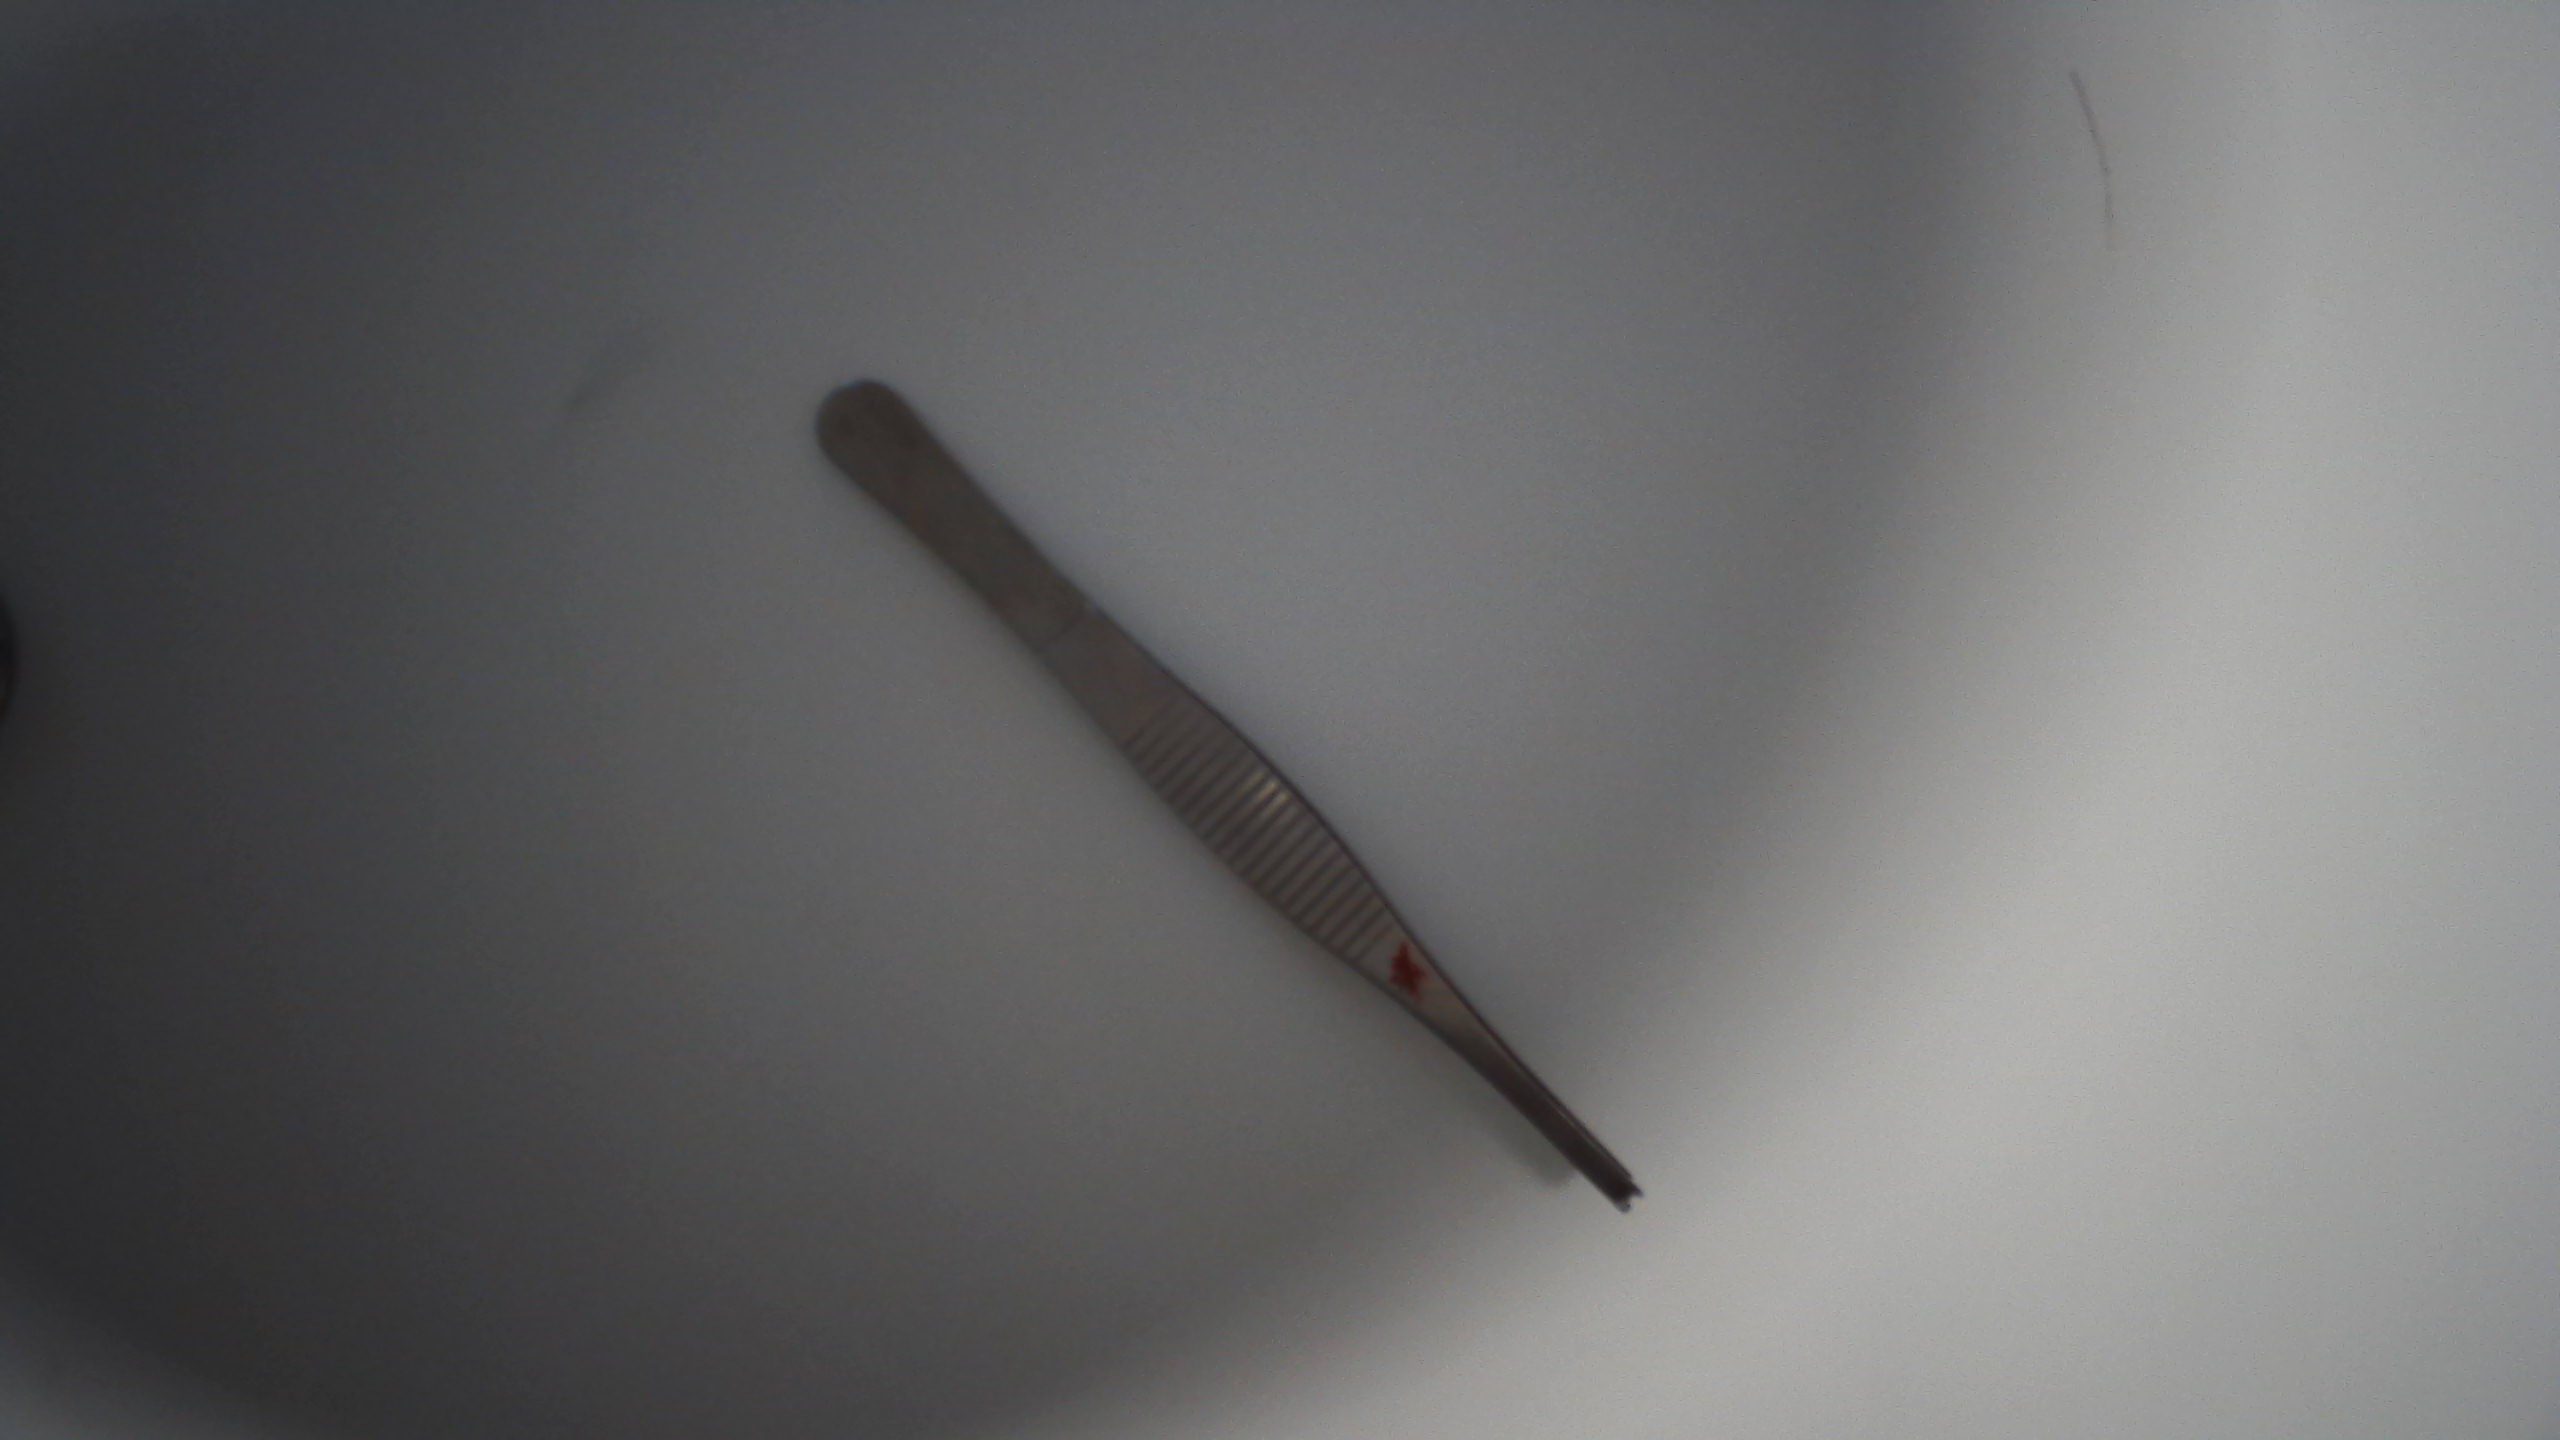Stain: (1389, 935, 1431, 1002)
